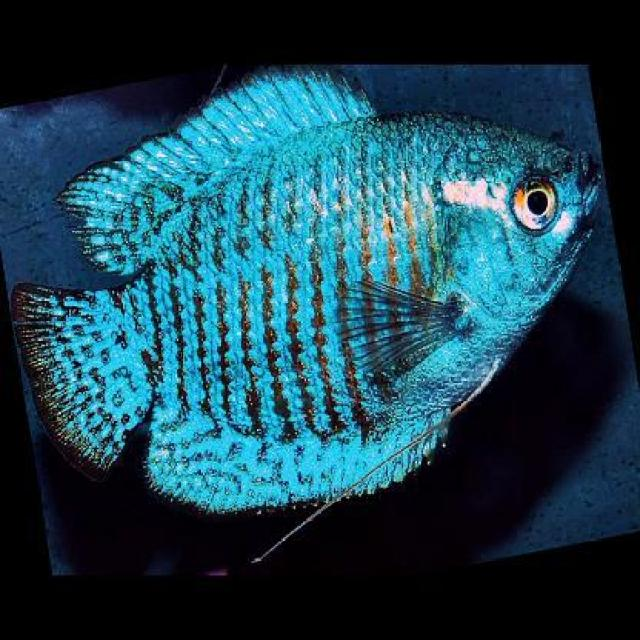Gourami: (10, 63, 608, 522)
